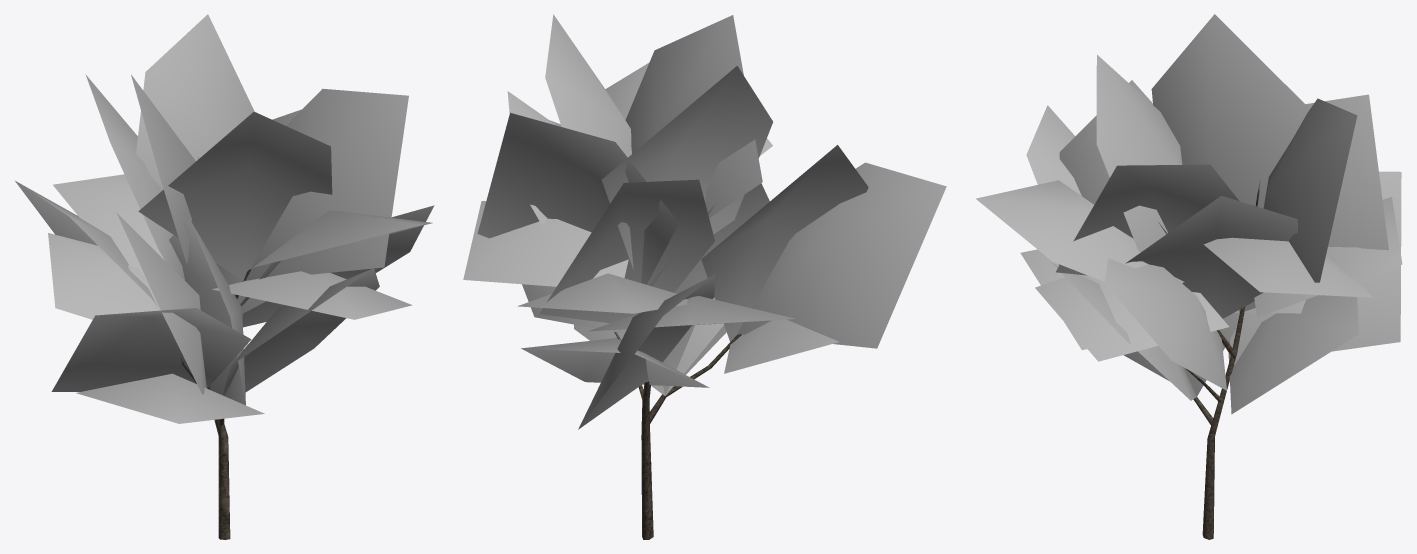
Rendered from schefflera3.fbx.
3 renders of one model, left to right at view 1: azimuth 30°, elevation 25°; view 2: azimuth 150°, elevation 25°; view 3: azimuth 270°, elevation 25°, orthographic. The views are drawn at different scales.
Parts seen in each view (by area): view 1: polySurface231; view 2: polySurface231; view 3: polySurface231.
Boxes of the visible parts, <box> form: polySurface231: <box>15,14,434,539</box>; polySurface231: <box>463,14,946,539</box>; polySurface231: <box>976,14,1402,539</box>.
Bounding box in the file's own units: 13.14 × 16.16 × 13.02.
2 materials, 1 textured.
